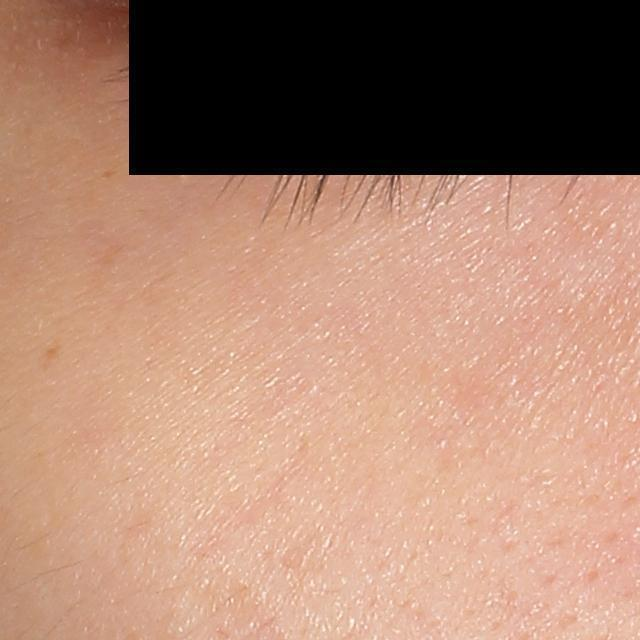melasma: (101, 167, 117, 178)
